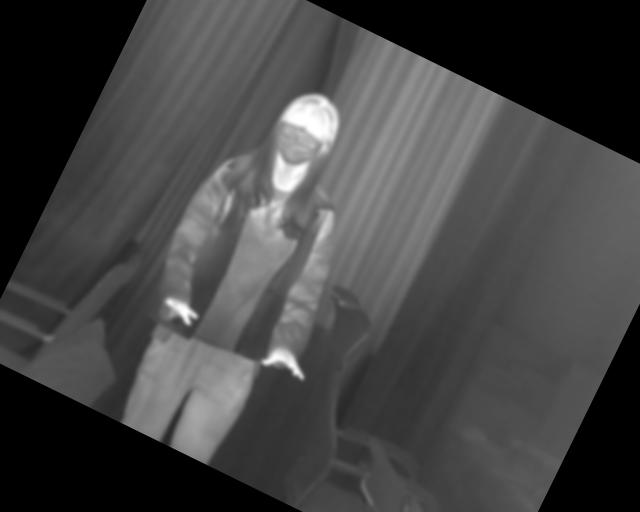face: (263, 83, 351, 179)
